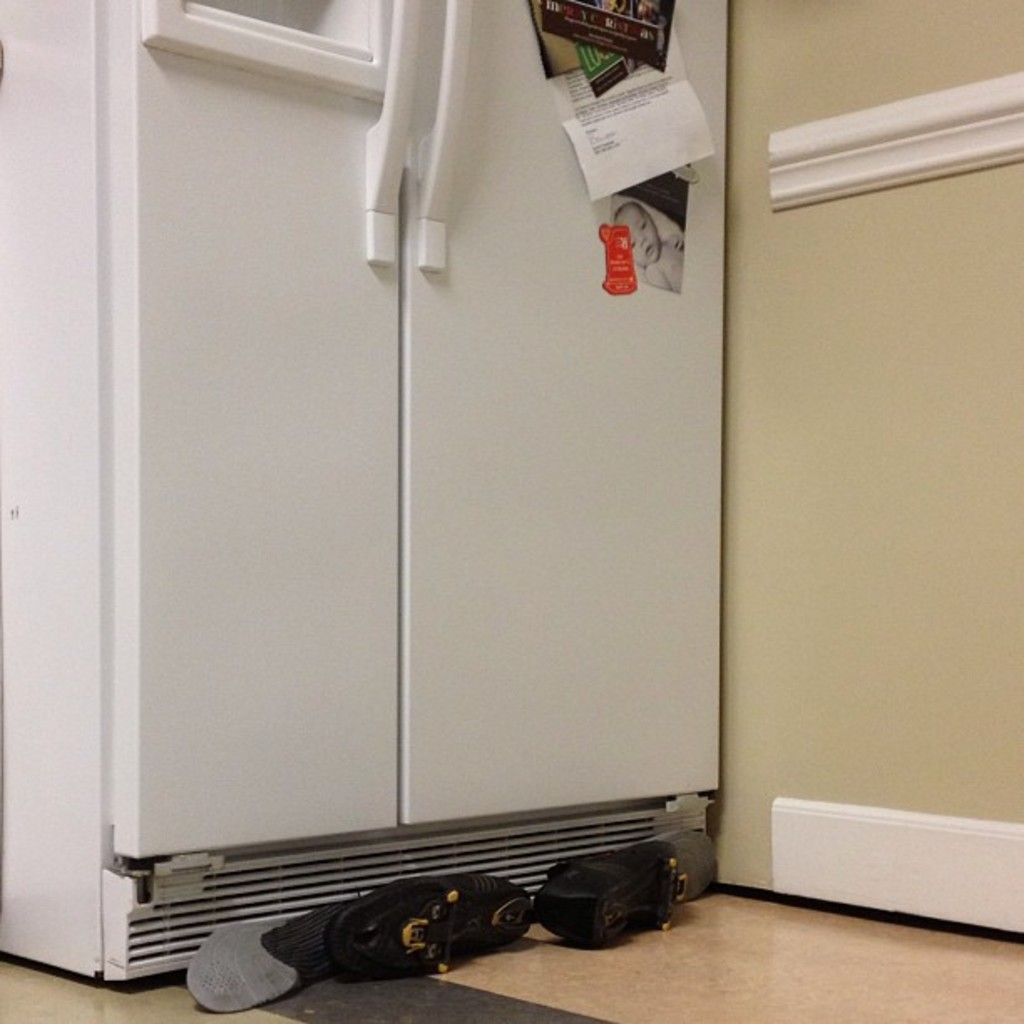handle: (356, 16, 406, 280), (414, 16, 461, 279)
refrigerator door: (414, 20, 718, 788), (127, 43, 399, 822)
